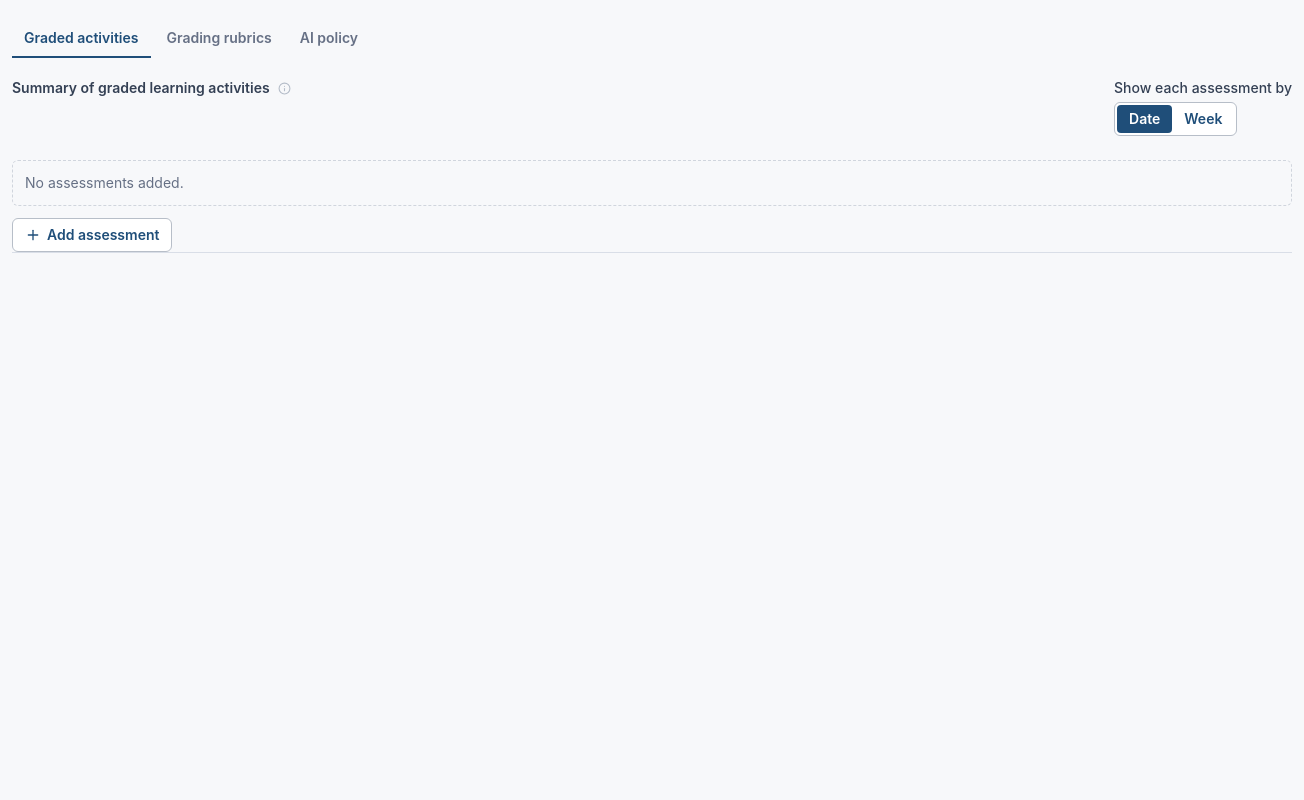
it: AssessmentTabs › shows one focused assessment editor at a time
Expected: the heading "Summary of graded learning activities" is shown, 12,78 -> 293,98
Expected: the text "One rubric per assessment type" is not shown
Click the tab "Grading rubrics".
click(219, 39)  # box 154,20 -> 284,58
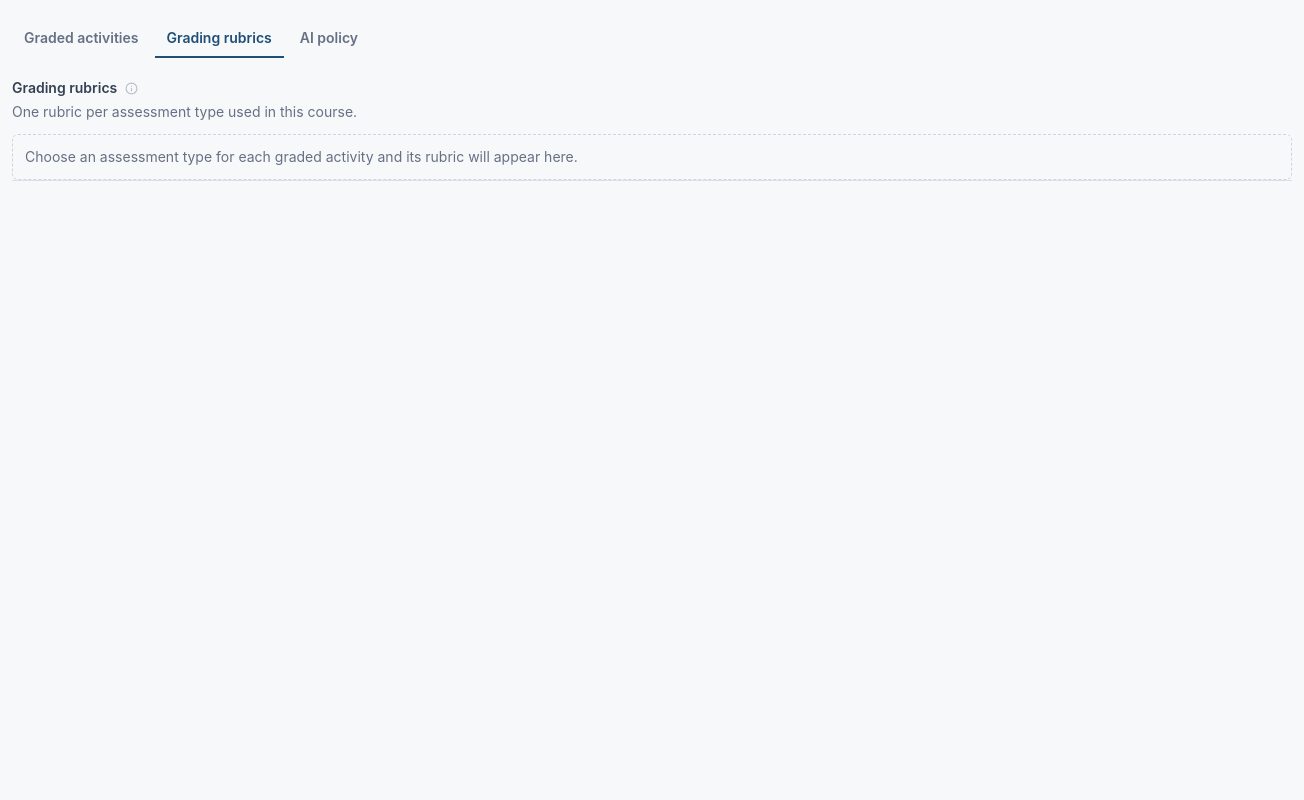
Now the text "One rubric per assessment type used in this course." is shown, box 12,103 -> 357,120
Now the heading "Summary of graded learning activities" is gone
Click the tab "AI policy".
click(329, 39)  # box 288,20 -> 370,58
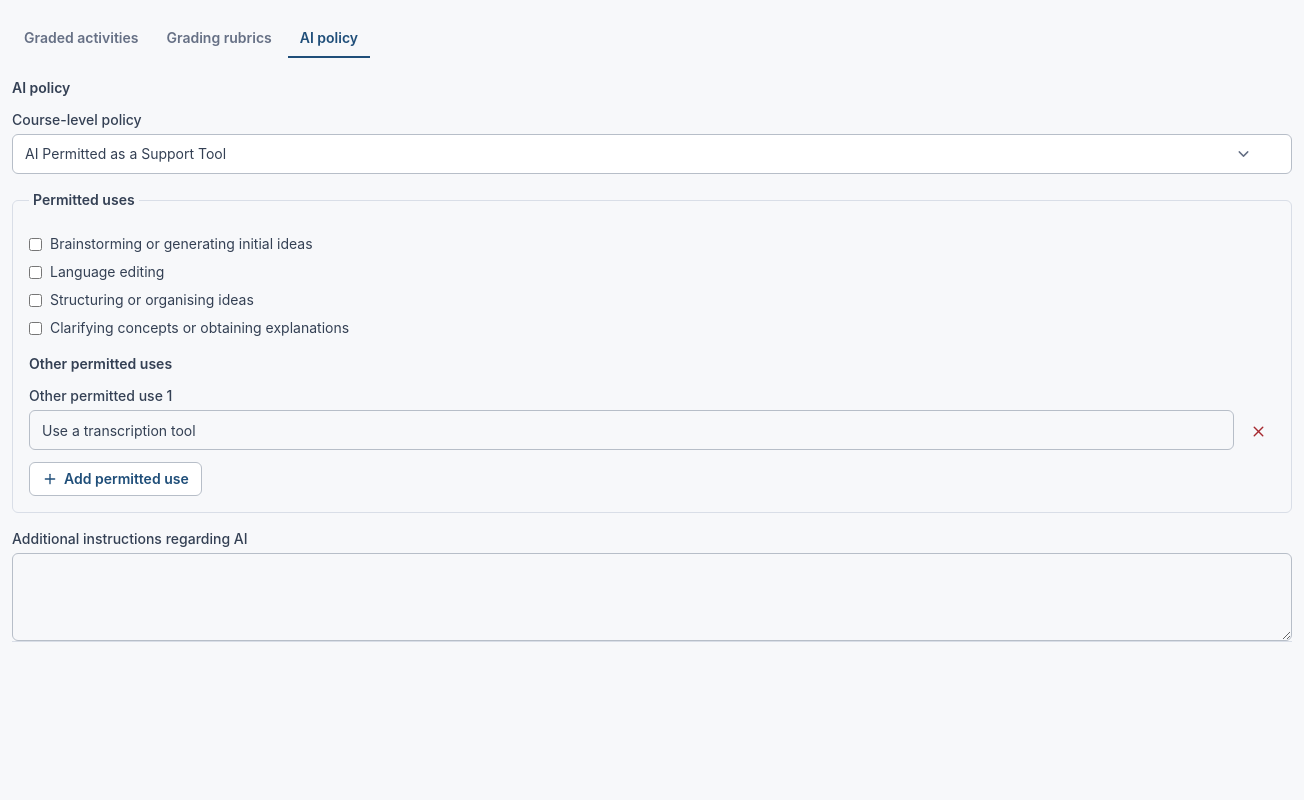
Now the text "Course-level policy" is shown, box 12,111 -> 142,128
Now the heading "Other permitted uses" is shown, box 29,355 -> 172,372
Now the text box labelled "Other permitted use 1" holds "Use a transcription tool", box 29,410 -> 1234,450
